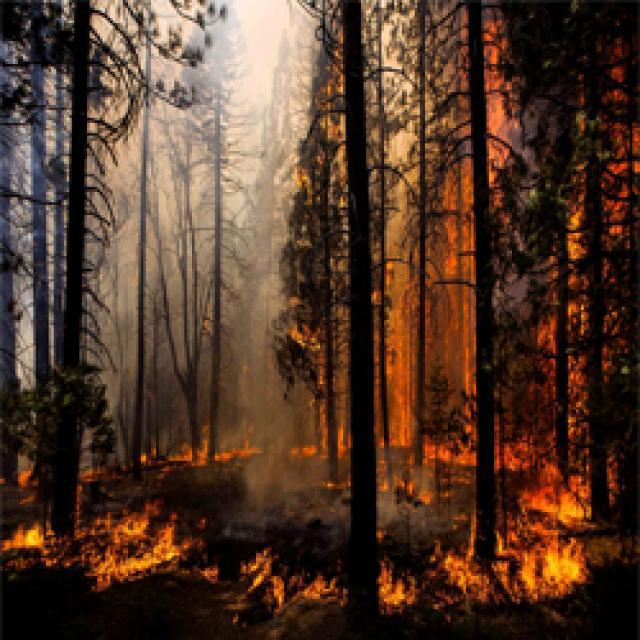Fire: (484, 16, 640, 520), (372, 129, 478, 469), (0, 506, 217, 594), (426, 522, 590, 612), (227, 542, 347, 610), (136, 418, 210, 467), (291, 402, 351, 458), (375, 531, 417, 610), (375, 478, 454, 506), (0, 461, 38, 507), (215, 429, 260, 461), (76, 461, 99, 507), (321, 474, 349, 490)
Smoke: (0, 0, 313, 396), (360, 0, 460, 129), (238, 462, 344, 524), (371, 488, 448, 524), (227, 396, 290, 428)
